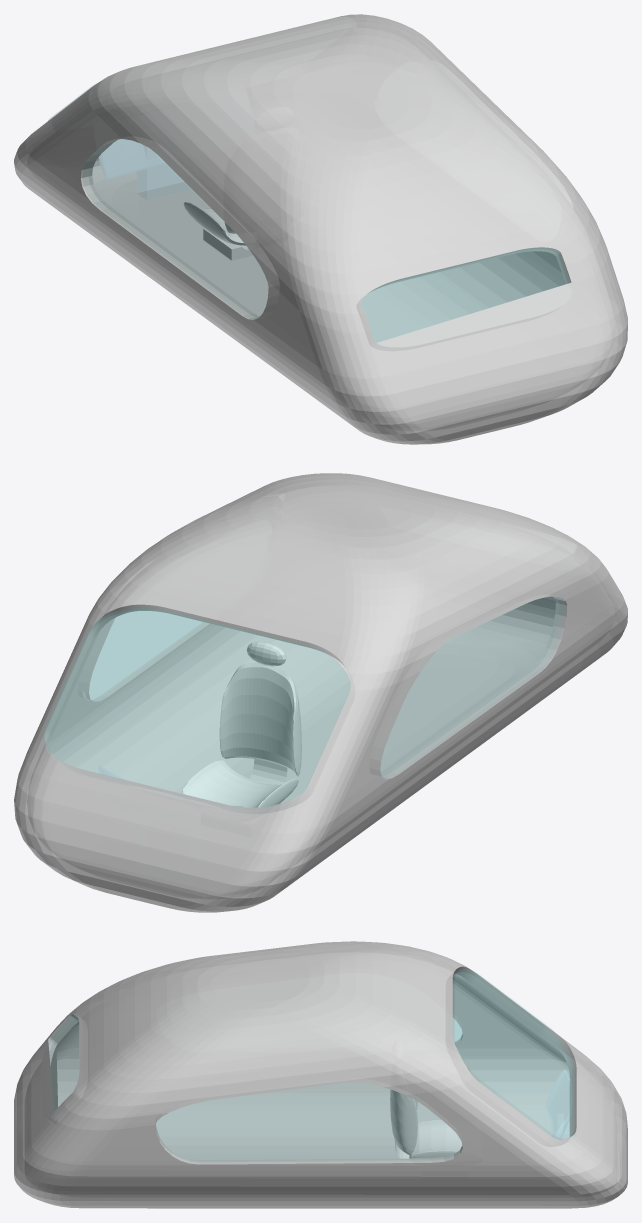
The model's file is капсула2.fbx.
3 renders of one model, top to bottom at view 1: azimuth 30°, elevation 25°; view 2: azimuth 150°, elevation 25°; view 3: azimuth 270°, elevation 25°, orthographic. The views are drawn at different scales.
Parts seen in each view (by area): view 1: Circle, Cube.004, Cube.007, Circle.003, Circle.001, Cube.002, Cube; view 2: Circle, Cube.006, Cube.004, Circle.002, Cube.005, Circle.001, Cube.001, Plane; view 3: Circle, Cube.005, Cube.006, Cube.007, Circle.001, Circle.002, Circle.003.
Boxes of the visible parts, left/top/right/bottom form: Circle: left=14, top=14, right=627, bottom=444; Cube.004: left=82, top=139, right=268, bottom=318; Cube.007: left=362, top=247, right=569, bottom=342; Circle.003: left=99, top=139, right=165, bottom=178; Circle.001: left=183, top=202, right=245, bottom=245; Cube.002: left=137, top=164, right=183, bottom=192; Cube: left=203, top=228, right=253, bottom=260; Circle: left=14, top=473, right=627, bottom=912; Cube.006: left=43, top=608, right=350, bottom=807; Cube.004: left=380, top=597, right=565, bottom=778; Circle.002: left=219, top=662, right=301, bottom=776; Cube.005: left=89, top=611, right=202, bottom=699; Circle.001: left=181, top=760, right=298, bottom=807; Cube.001: left=246, top=641, right=286, bottom=666; Plane: left=250, top=759, right=287, bottom=784; Circle: left=14, top=941, right=627, bottom=1208; Cube.005: left=156, top=1082, right=461, bottom=1161; Cube.006: left=453, top=969, right=573, bottom=1139; Cube.007: left=49, top=1014, right=78, bottom=1110; Circle.001: left=409, top=1120, right=461, bottom=1158; Circle.002: left=390, top=1089, right=417, bottom=1154; Circle.003: left=546, top=1070, right=569, bottom=1137.
Bounding box in the file's own units: 400 × 315 × 854.
